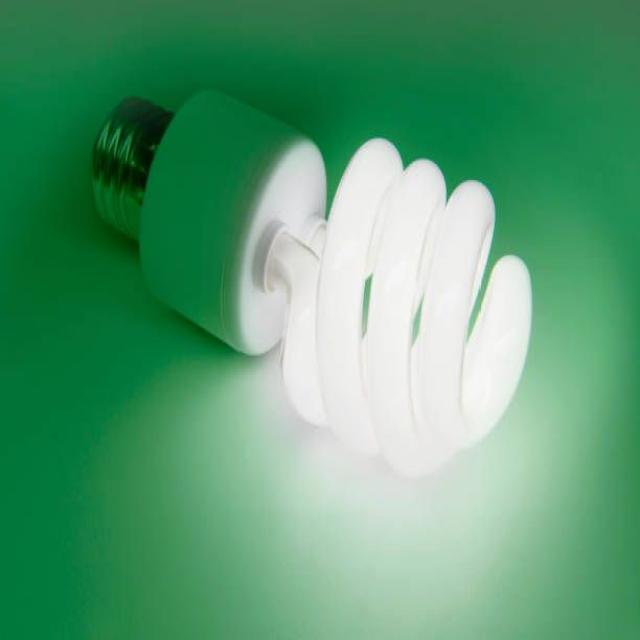electronic: (90, 85, 532, 477), (90, 86, 327, 358)
